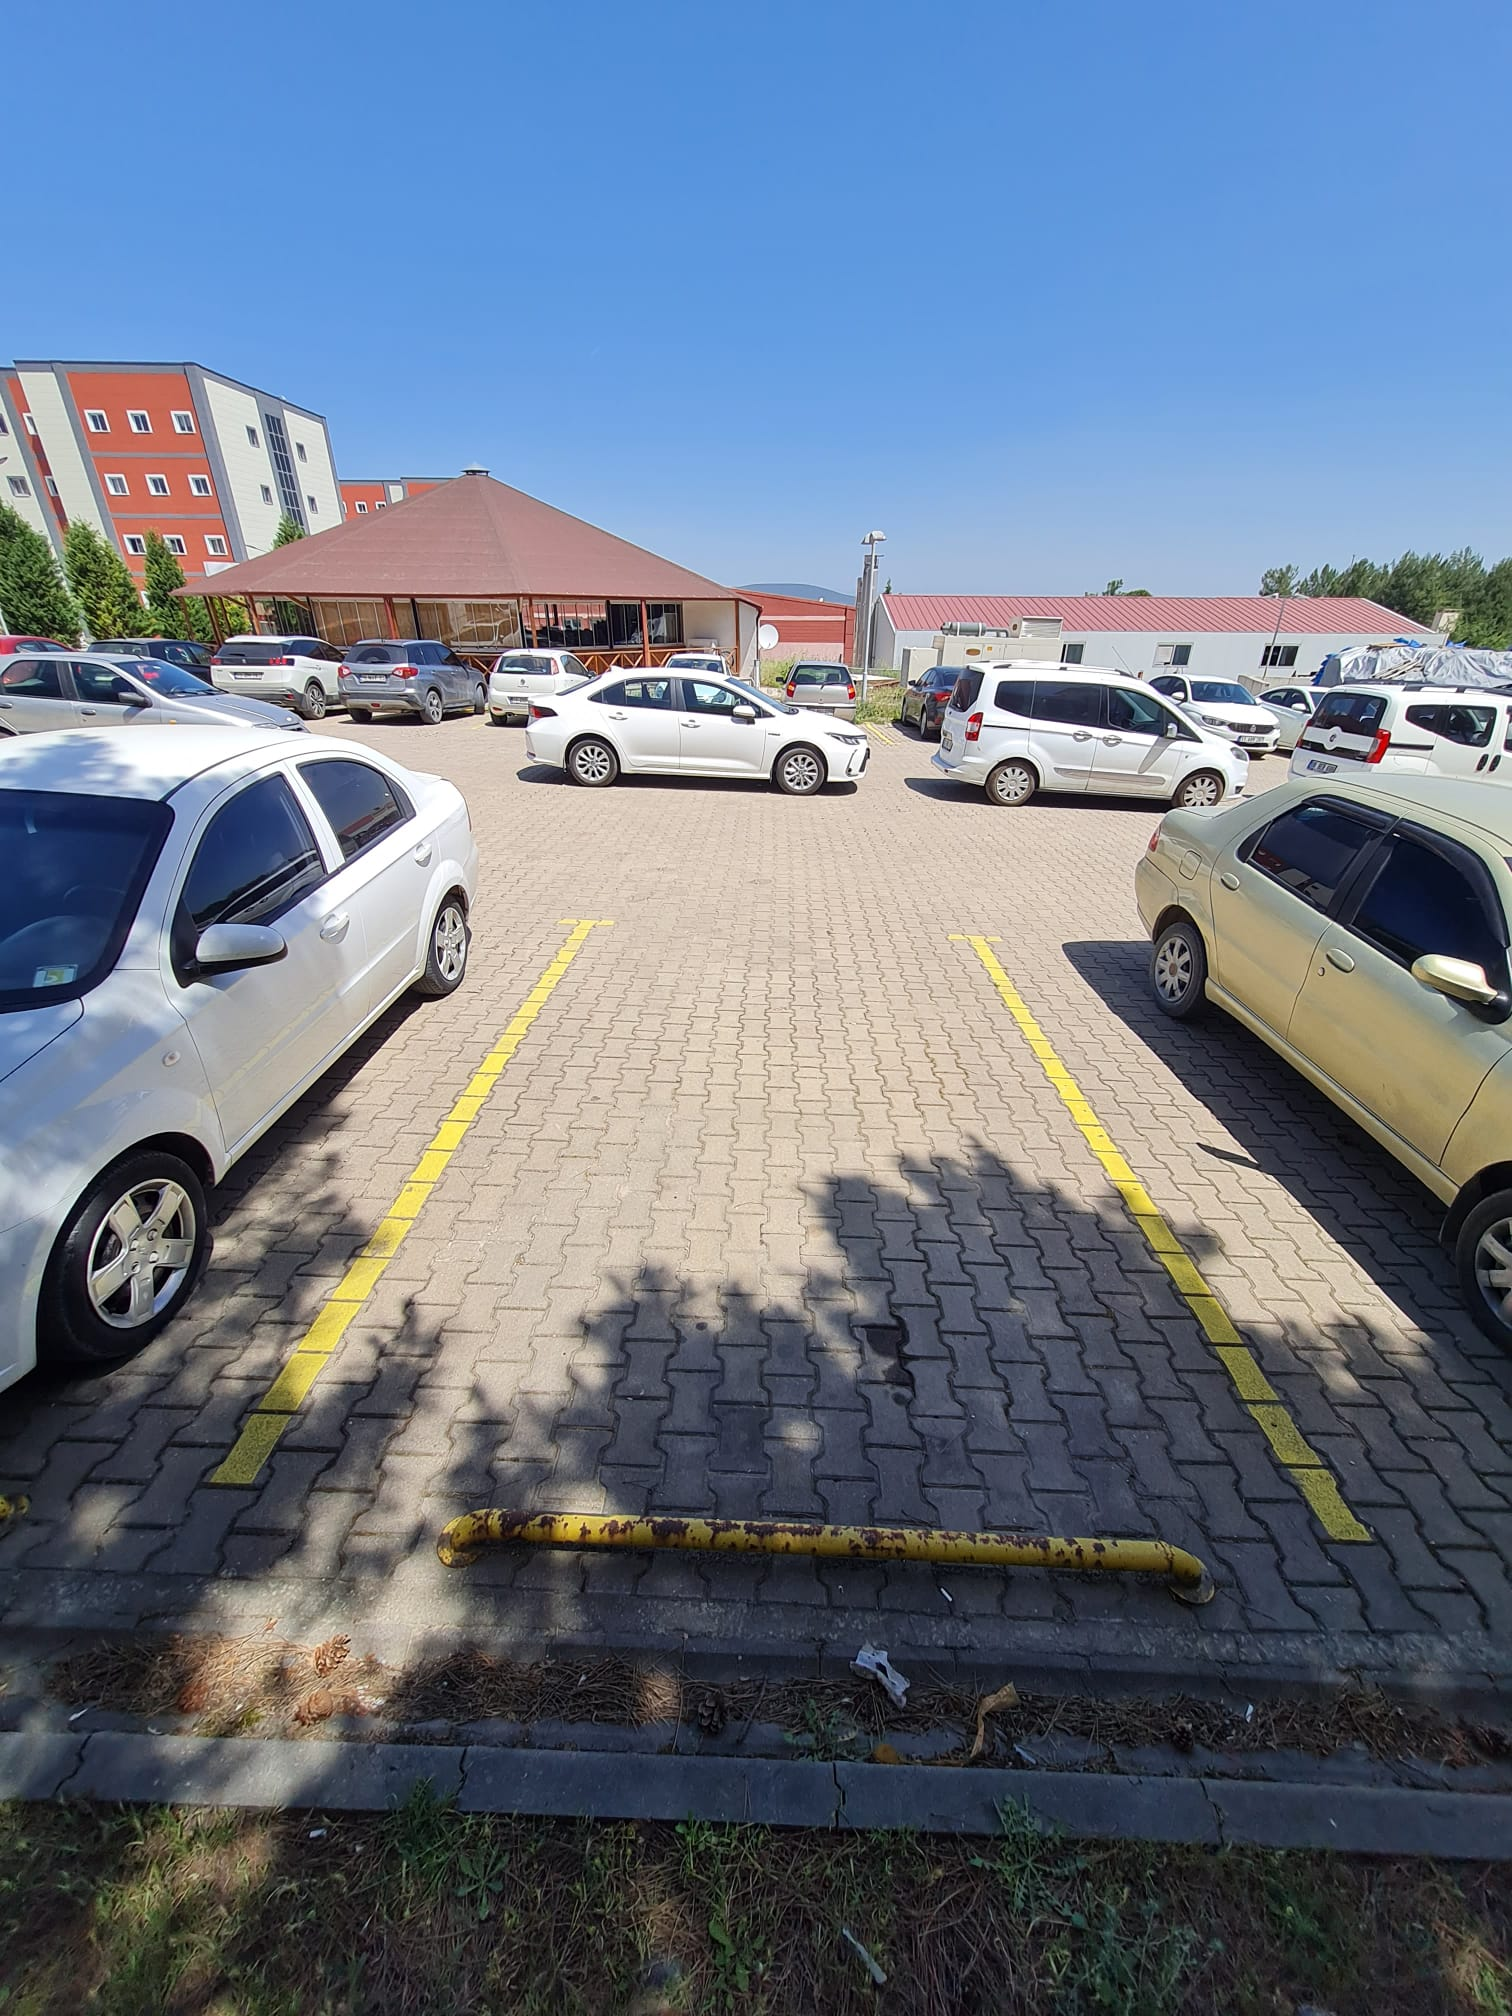dolu: (273, 883, 1331, 1584)
